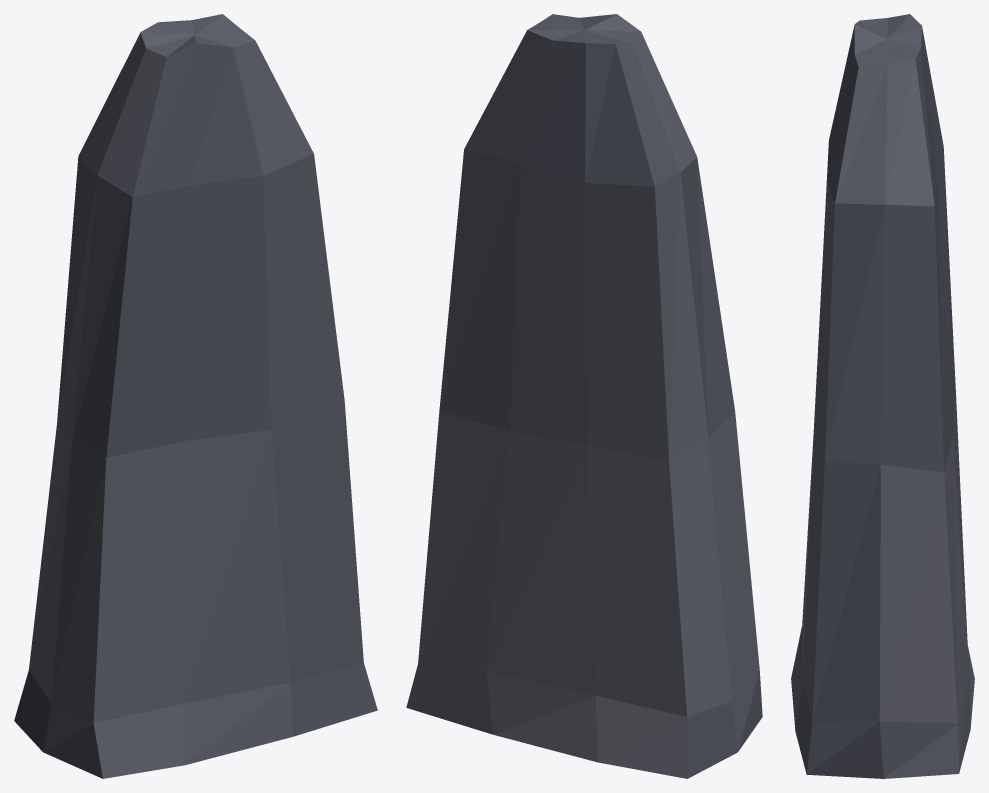
File: rune3.glb
3 renders of one model, left to right at view 1: azimuth 30°, elevation 25°; view 2: azimuth 150°, elevation 25°; view 3: azimuth 270°, elevation 25°, orthographic. The views are drawn at different scales.
Visible parts, largest first — view 1: rune3; view 2: rune3; view 3: rune3.
Boxes of the visible parts, x1,y1,x2,y2 form: rune3: [14, 14, 377, 778]; rune3: [406, 14, 762, 778]; rune3: [791, 14, 974, 778].
Size of the model in its own units: 2.1 by 4.55 by 1.12.
1 material, 1 textured.
